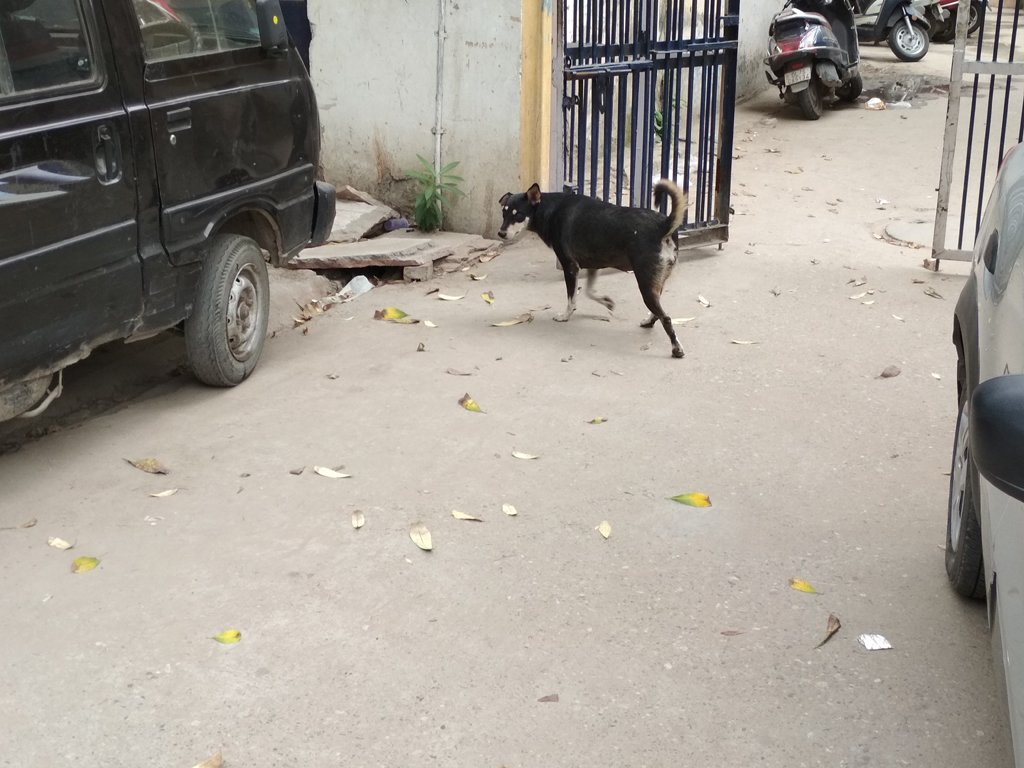dog: (497, 178, 688, 359)
